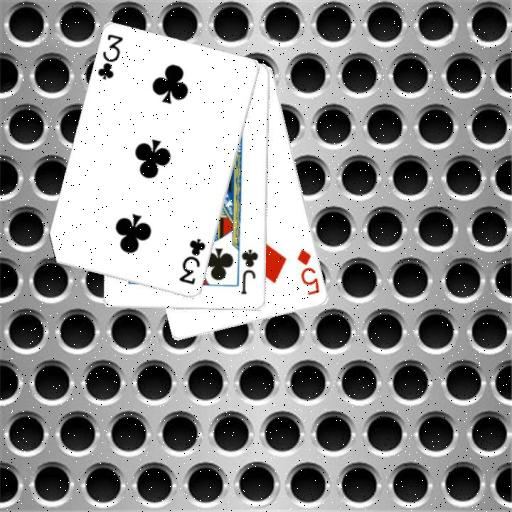3C: (176, 236, 208, 287), (95, 31, 125, 82)
5D: (295, 247, 322, 297)
JC: (238, 247, 260, 297)
